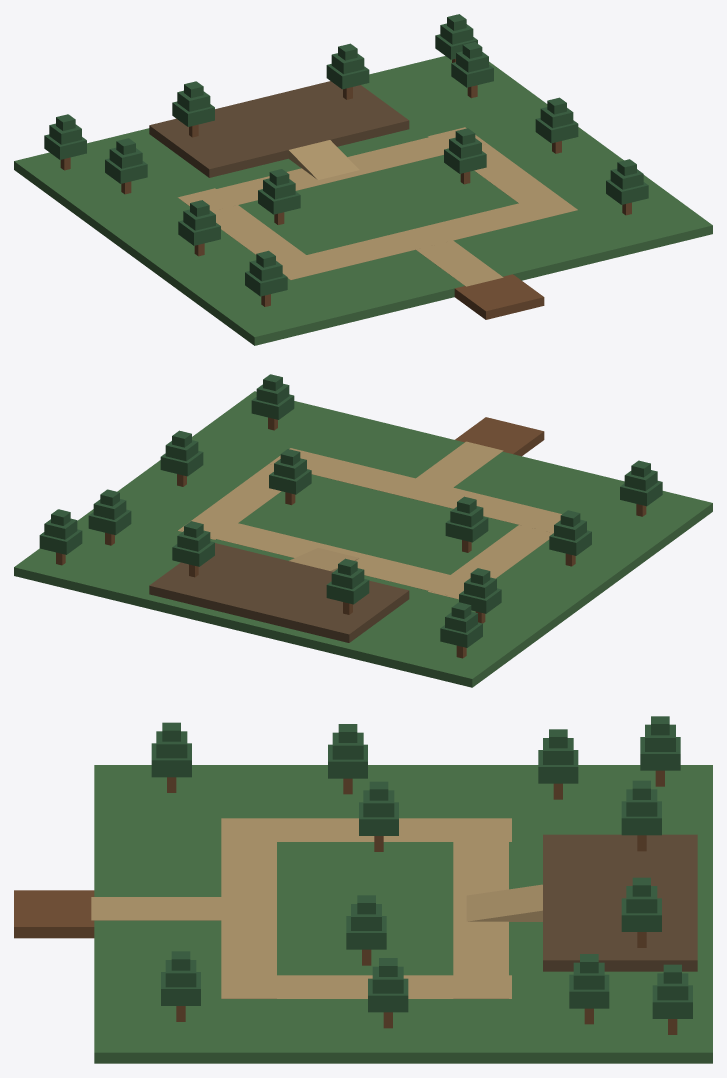
The model's file is Greenwood.glb.
3 views of the same model, one above another, from view 1: azimuth 30°, elevation 25°; view 2: azimuth 150°, elevation 25°; view 3: azimuth 270°, elevation 25° (orthographic). The views are drawn at different scales.
Visible parts, largest first — view 1: Island, BossRise, CrossTrail, CrossTrail.001, Landing, Trail, Trail.001, ArrivalTrail, RootAscent, Canopy.033, Canopy.009, Canopy.003 (+8 smaller); view 2: Island, BossRise, CrossTrail, CrossTrail.001, Trail, Landing, Trail.001, ArrivalTrail, RootAscent, Canopy.015, Canopy.003, Canopy.009 (+9 smaller); view 3: Island, BossRise, CrossTrail, CrossTrail.001, Landing, Trail, Trail.001, ArrivalTrail, RootAscent, Canopy, Canopy.030, Canopy.015 (+21 smaller).
Part boxes in pixels (<box>): Island: <box>14,56,712,345</box>; BossRise: <box>149,81,409,177</box>; CrossTrail: <box>278,194,577,279</box>; CrossTrail.001: <box>179,128,487,211</box>; Landing: <box>454,274,544,319</box>; Trail: <box>178,188,306,261</box>; Trail.001: <box>428,127,556,203</box>; ArrivalTrail: <box>416,240,503,286</box>; RootAscent: <box>288,140,359,180</box>; Canopy.033: <box>326,64,369,89</box>; Canopy.009: <box>535,118,578,143</box>; Canopy.003: <box>606,179,648,204</box>; Island: <box>14,391,712,687</box>; BossRise: <box>149,543,409,642</box>; CrossTrail: <box>269,448,561,532</box>; CrossTrail.001: <box>179,514,468,597</box>; Trail: <box>428,525,553,599</box>; Landing: <box>455,417,544,456</box>; Trail.001: <box>178,464,281,539</box>; ArrivalTrail: <box>416,441,503,487</box>; RootAscent: <box>289,548,359,571</box>; Canopy.015: <box>88,509,131,535</box>; Canopy.003: <box>251,394,294,419</box>; Canopy.009: <box>160,451,203,476</box>; Island: <box>94,765,712,1063</box>; BossRise: <box>543,834,697,971</box>; CrossTrail: <box>221,818,276,998</box>; CrossTrail.001: <box>453,818,508,998</box>; Landing: <box>14,890,94,938</box>; Trail: <box>277,818,511,841</box>; Trail.001: <box>277,975,511,998</box>; ArrivalTrail: <box>91,897,221,920</box>; RootAscent: <box>466,884,542,921</box>; Canopy: <box>151,743,191,777</box>; Canopy.030: <box>621,801,661,835</box>; Canopy.015: <box>569,974,609,1008</box>.
Size of the model in its own units: 220 by 31 by 226.
